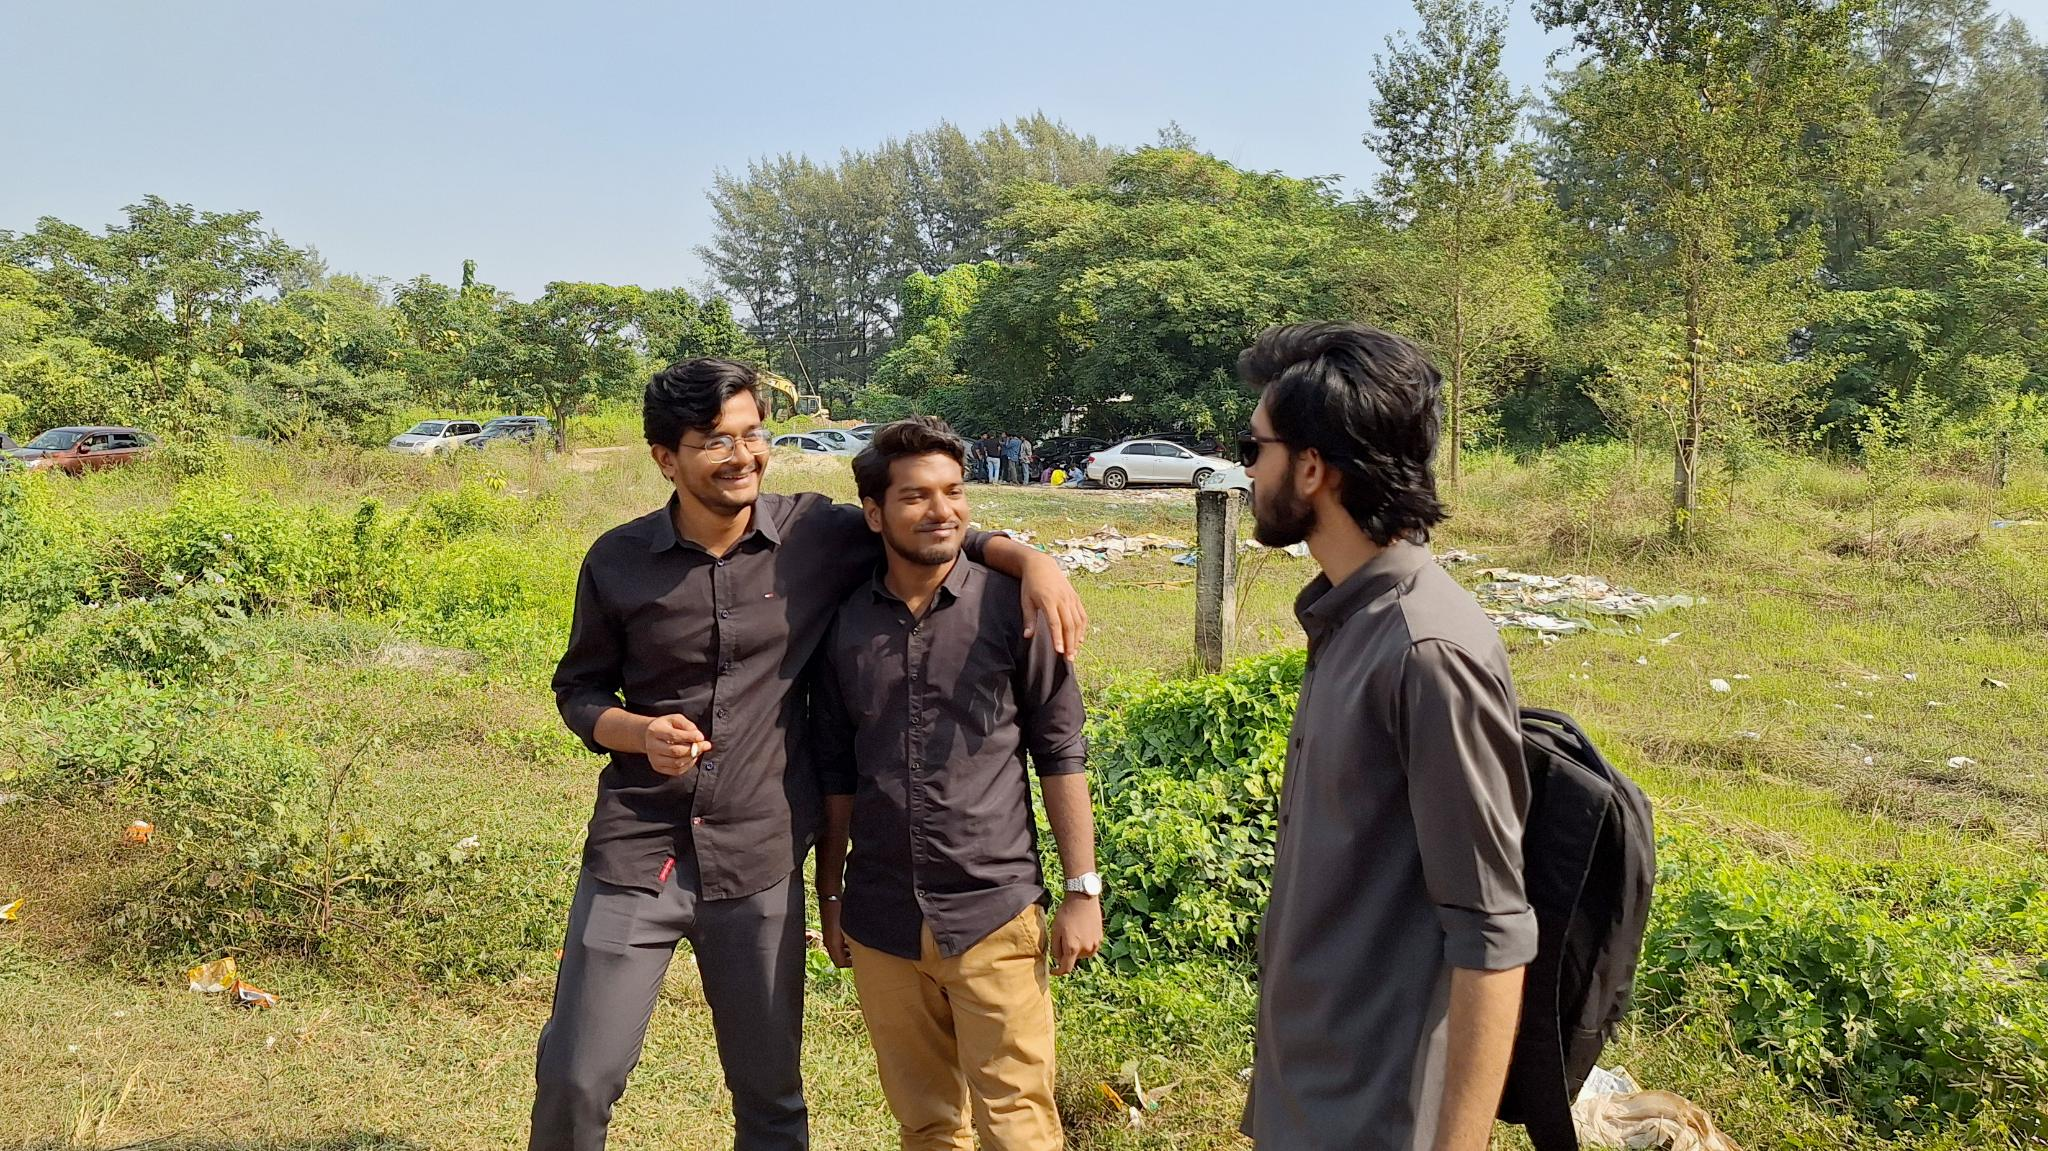cigarette: (688, 740, 700, 760)
nonSmoker: (1235, 319, 1656, 1151), (817, 416, 1106, 1151)
smoker: (527, 356, 861, 1151)
